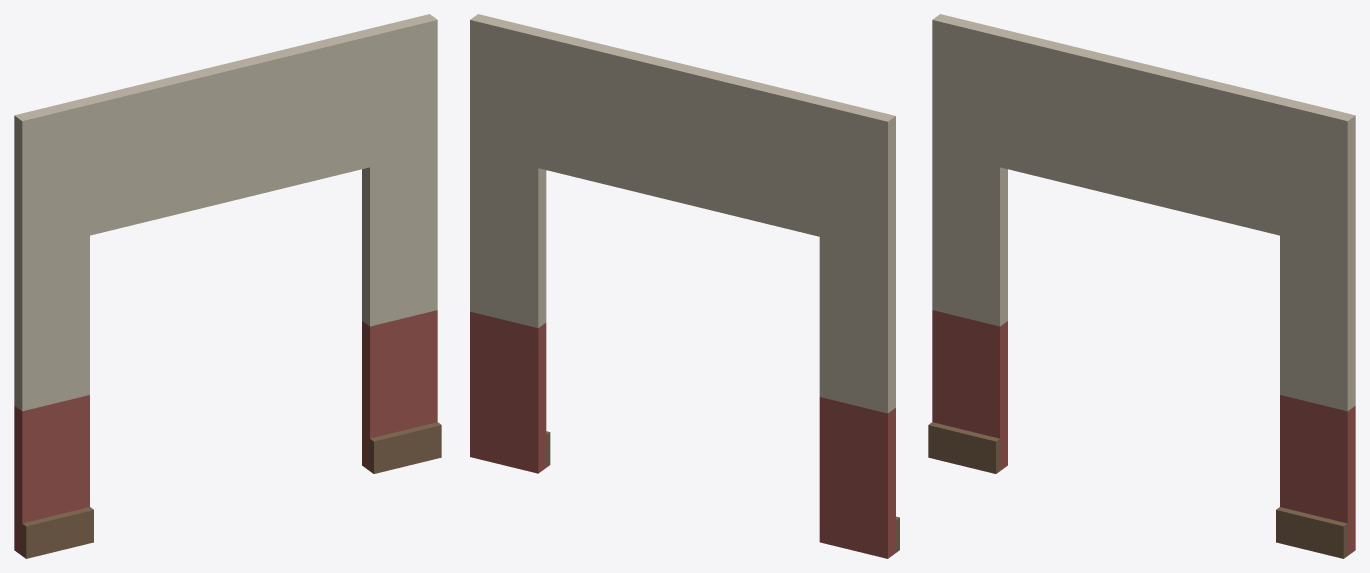
The model's file is Mesh_WallBaseboard2Colors_D4.fbx.
The picture shows the model from 3 angles, left to right: view 1: azimuth 30°, elevation 25°; view 2: azimuth 150°, elevation 25°; view 3: azimuth 330°, elevation 25°; orthographic projection.
Visible parts, largest first — view 1: Mesh_WallBaseboard2Colors_D4; view 2: Mesh_WallBaseboard2Colors_D4; view 3: Mesh_WallBaseboard2Colors_D4.
Boxes of the visible parts, bbox=[...] form: Mesh_WallBaseboard2Colors_D4: bbox=[14, 14, 441, 558]; Mesh_WallBaseboard2Colors_D4: bbox=[470, 14, 899, 558]; Mesh_WallBaseboard2Colors_D4: bbox=[928, 14, 1355, 558].
Bounding box in the file's own units: 3 × 3 × 0.15.
